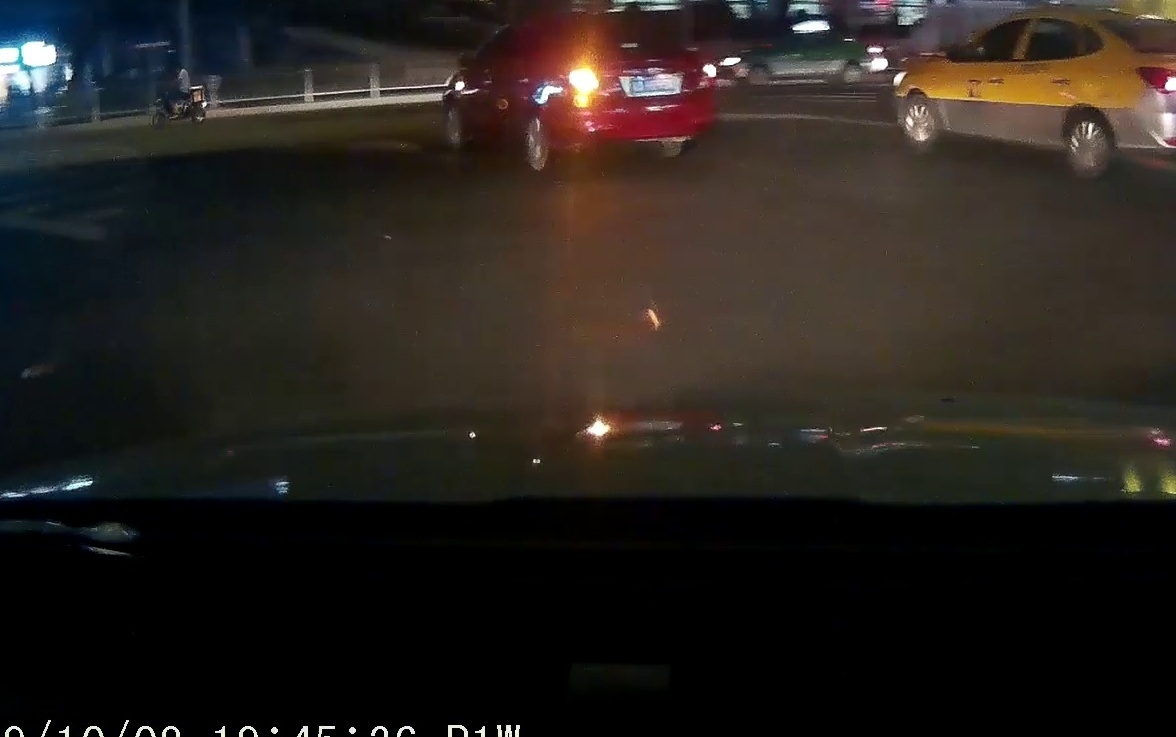L_light: (565, 71, 606, 96)
R_light: (685, 62, 715, 89)
T_light: (604, 27, 625, 33)
night-left: (552, 18, 716, 171)
